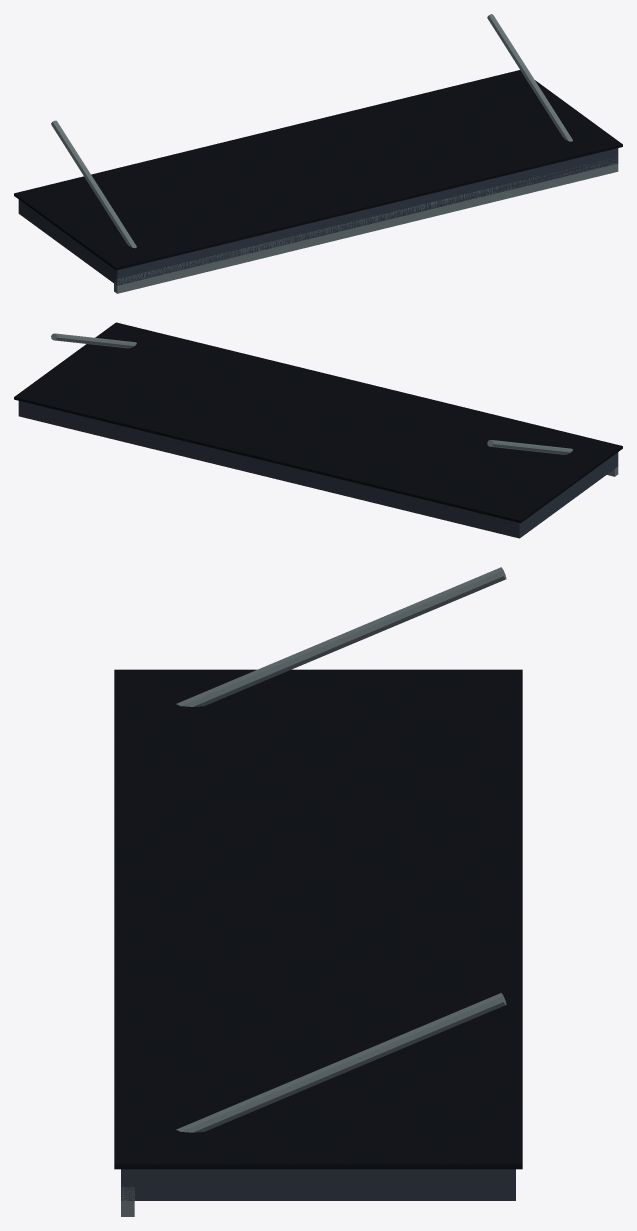
The model's file is canopy.glb.
3 views of the same model, one above another, from view 1: azimuth 30°, elevation 25°; view 2: azimuth 150°, elevation 25°; view 3: azimuth 270°, elevation 25° (orthographic). The views are drawn at different scales.
Parts seen in each view (by area): view 1: canopy_Roof, canopy_Steel, canopy_Trim; view 2: canopy_Roof, canopy_Steel, canopy_Trim; view 3: canopy_Roof, canopy_Steel, canopy_Trim.
Boxes of the visible parts, box(x1,y1,x2,y2) form: canopy_Roof: box(14, 70, 622, 270); canopy_Steel: box(18, 148, 618, 285); canopy_Trim: box(51, 14, 618, 293); canopy_Roof: box(14, 322, 622, 523); canopy_Steel: box(18, 401, 618, 538); canopy_Trim: box(51, 333, 618, 476); canopy_Roof: box(114, 669, 522, 1169); canopy_Steel: box(121, 1169, 515, 1200); canopy_Trim: box(121, 567, 506, 1216).
Size of the model in its own units: 4.3 by 0.7786 by 1.5.
Materials: 3 (1 with a texture image).
